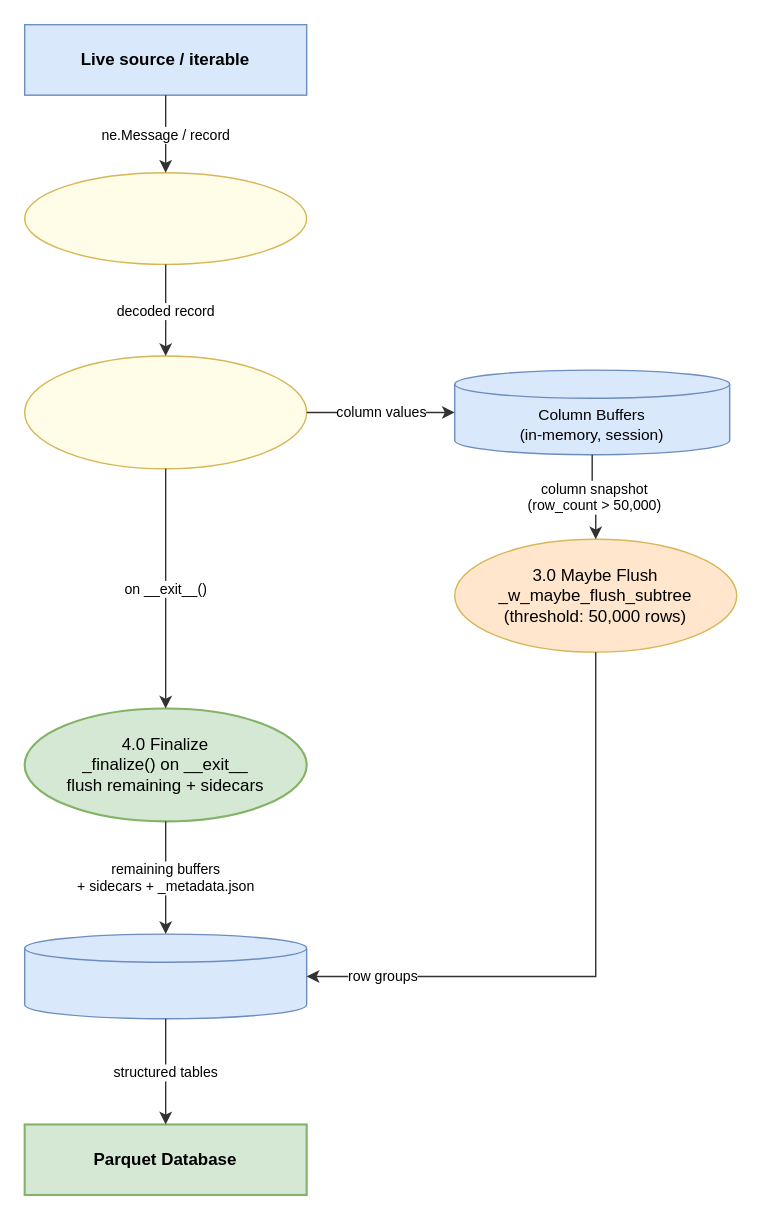
Image size: 763x1221. Some labels were removed from this diagram. Each missing label, with the centre of its shape:
".parquet files (disk)" goes at (x=165, y=976).
"1.0 Receive consume() / write()" goes at (x=165, y=217).
"2.0 Accumulate _w_add_entry + increment sequence_id" goes at (x=165, y=412).
